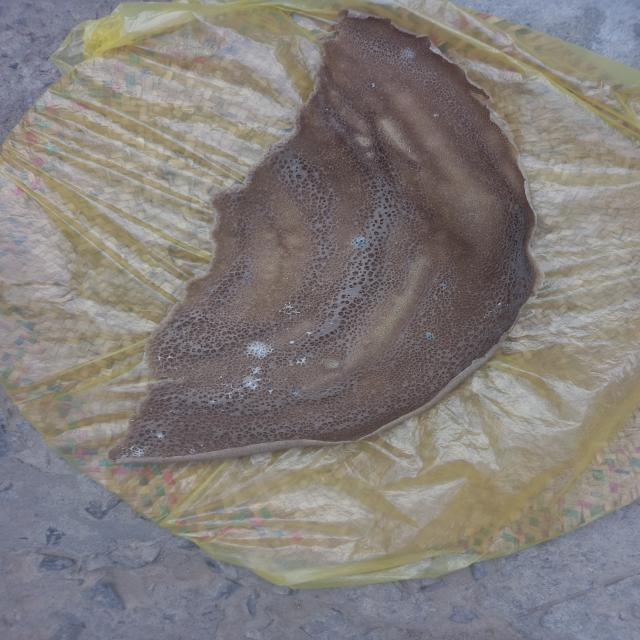injera_mold: (115, 442, 164, 466), (240, 337, 278, 362), (235, 370, 268, 395), (346, 232, 374, 256), (392, 42, 420, 61), (273, 299, 301, 318), (430, 277, 452, 293), (419, 329, 441, 343), (291, 352, 314, 365)
